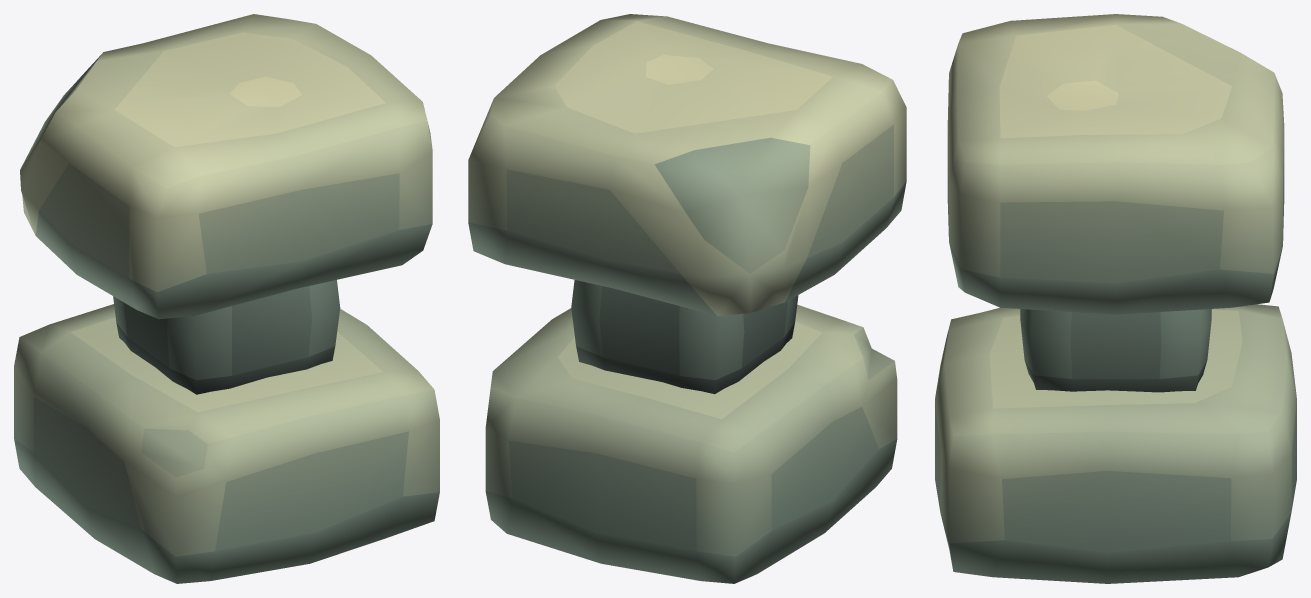
The model's file is rail2_2_stone1_LOD_group.fbx.
3 views of the same model, side by side, from view 1: azimuth 30°, elevation 25°; view 2: azimuth 150°, elevation 25°; view 3: azimuth 270°, elevation 25° (orthographic). The views are drawn at different scales.
Visible parts, largest first — view 1: rail2_2_stone1_LOD0; view 2: rail2_2_stone1_LOD0; view 3: rail2_2_stone1_LOD0.
Part boxes in pixels (x1,y1,x2,y2): rail2_2_stone1_LOD0: (14,14,439,583); rail2_2_stone1_LOD0: (468,14,906,583); rail2_2_stone1_LOD0: (935,14,1296,583).
Size of what is drawn, in the model's own units: 61.22 by 81.78 by 59.95.
1 material, 1 textured.
